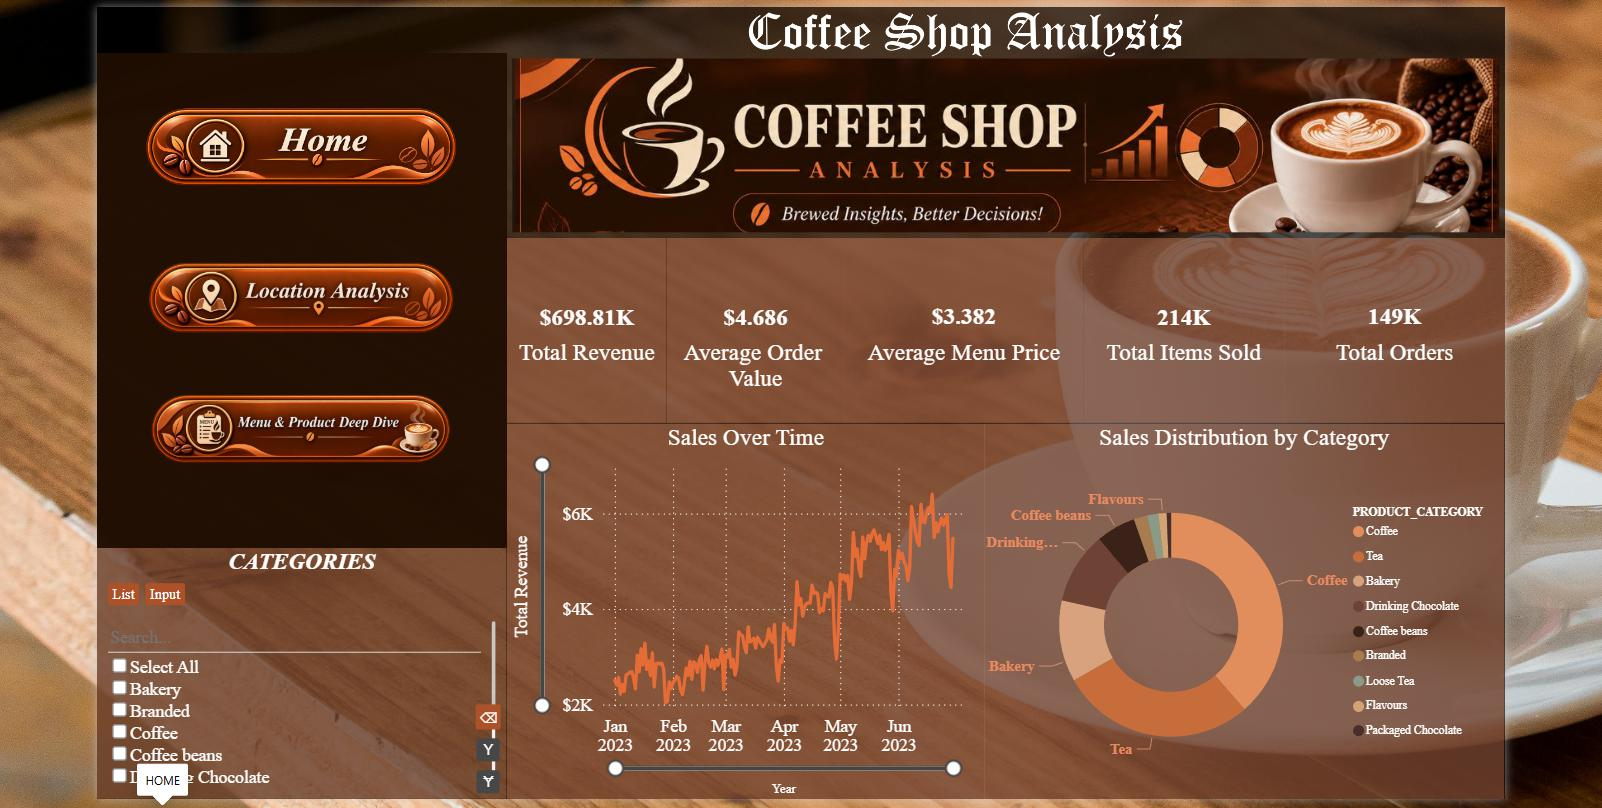

What the dashboard file says about the page in this screenshot:
{"tool":"powerbi","page":{"name":"HOME","canvas":[1280,720],"ordinal":0},"visuals":[{"type":"card","title":"Total Revenue","fields":{"Values":["TRANSACTIONS.TOTAL_AMT_SUMX"]},"box":[372.4,210.1,145.4,168.5],"z":0},{"type":"image","box":[372.7,41.8,907.3,168.2],"z":1000},{"type":"card","fields":{"Values":["TRANSACTIONS.Average Order Value"]},"box":[517.8,210.1,161.4,168.5],"z":3000},{"type":"card","fields":{"Values":["TRANSACTIONS.TOTAL_QUANTITY_SOLD"]},"box":[897.3,210.1,181.8,168.5],"z":4000},{"type":"card","fields":{"Values":["TRANSACTIONS.AVERAGE_UNIT_PRICE"]},"box":[679.2,210.1,218.1,167.6],"z":5000},{"type":"card","fields":{"Values":["TRANSACTIONS.TRANSACTION_COUNT"]},"box":[1079.1,210.1,201.3,167.6],"z":7000},{"type":"lineChart","title":"Sales Over Time","fields":{"Category":["TRANSACTIONS.TRANSACTION_DATETIME.Variation.Date Hierarchy.Year","TRANSACTIONS.TRANSACTION_DATETIME.Variation.Date Hierarchy.Quarter","TRANSACTIONS.TRANSACTION_DATETIME.Variation.Date Hierarchy.Month","TRANSACTIONS.TRANSACTION_DATETIME.Variation.Date Hierarchy.Day"],"Y":["TRANSACTIONS.TOTAL_AMT_SUMX"]},"box":[372.4,378.9,434.4,341],"z":8000},{"type":"donutChart","title":"Sales Distribution by Category","fields":{"Category":["TRANSACTIONS.PRODUCT_CATEGORY"],"Y":["TRANSACTIONS.TOTAL_AMT_SUMX"]},"box":[806.8,378.9,473.2,341],"z":9000},{"type":"multifilterF4E665C057974D93BE652CF6781B928D","title":"CATEGORIES","fields":{"field":["TRANSACTIONS.PRODUCT_CATEGORY"]},"box":[0,492.1,372.4,227.9],"z":10000},{"type":"image","box":[518.2,0,556.4,54.5],"z":11000},{"type":"shape","box":[0,41.7,372.7,450],"z":11002,"group":"g1"},{"type":"image","box":[35.5,62.8,300,130.9],"z":11003,"group":"g1"},{"type":"image","box":[35.5,200,300,130.9],"z":11004,"group":"g1"},{"type":"image","box":[35.5,320,300,130.9],"z":11005,"group":"g1"},{"type":"group","id":"g1","title":"Group 1","box":[0,41.7,372.7,450],"z":11006}]}

Visuals, with their boxes on the page's 1280x720 design canvas (x1, y1, x2, y2). These are canvas units, not pixel positions in the 1602x808 screenshot, which may show the page scaled, cropped or inside an application window:
"Total Revenue" card: (372, 210, 518, 379)
image: (373, 42, 1280, 210)
card - TRANSACTIONS.Average Order Value: (518, 210, 679, 379)
card - TRANSACTIONS.TOTAL_QUANTITY_SOLD: (897, 210, 1079, 379)
card - TRANSACTIONS.AVERAGE_UNIT_PRICE: (679, 210, 897, 378)
card - TRANSACTIONS.TRANSACTION_COUNT: (1079, 210, 1280, 378)
"Sales Over Time" lineChart: (372, 379, 807, 720)
"Sales Distribution by Category" donutChart: (807, 379, 1280, 720)
"CATEGORIES" multifilterF4E665C057974D93BE652CF6781B928D: (0, 492, 372, 720)
image: (518, 0, 1075, 54)
shape: (0, 42, 373, 492)
image: (36, 63, 336, 194)
image: (36, 200, 336, 331)
image: (36, 320, 336, 451)
"Group 1" group: (0, 42, 373, 492)
